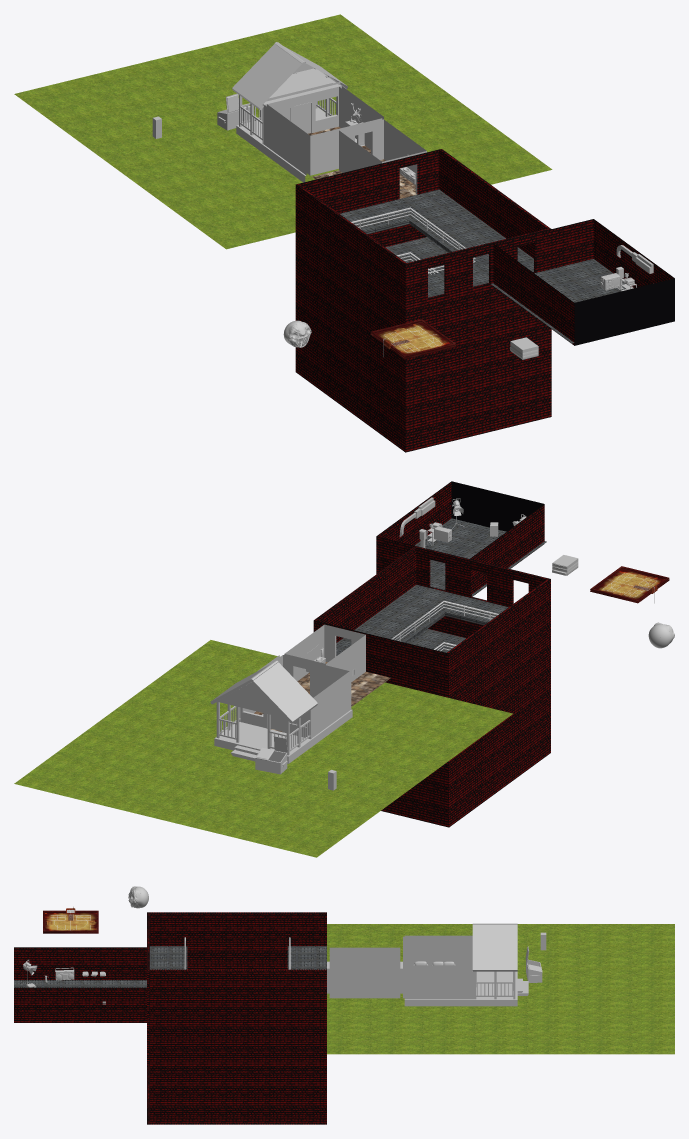
Rendered from Env.fbx.
3 views of the same model, one above another, from view 1: azimuth 30°, elevation 25°; view 2: azimuth 150°, elevation 25°; view 3: azimuth 270°, elevation 25° (orthographic). The views are drawn at different scales.
Visible parts, largest first — view 1: Rectangle023, Plane002, Rectangle024, House_D_006, Object004, Object003, Rectangle022, Object068, Plane001, Box002, Rectangle012, Object005 (+3 smaller); view 2: Plane002, Rectangle023, House_D_006, Rectangle024, Object003, Object004, Rectangle022, Plane001, Object068, Rectangle012, Line005, Box01 (+4 smaller); view 3: Rectangle023, Plane002, Rectangle024, House_D_006, Rectangle022, Object068, Object004, Plane001, Rectangle012, Rectangle002, Box01, Object_36.
Boxes of the visible parts, left/top/right/bottom form: Rectangle023: left=295, top=149, right=551, bottom=452; Plane002: left=14, top=14, right=552, bottom=249; Rectangle024: left=493, top=219, right=674, bottom=345; House_D_006: left=232, top=42, right=383, bottom=182; Object004: left=340, top=189, right=533, bottom=297; Object003: left=299, top=149, right=438, bottom=246; Rectangle022: left=339, top=119, right=426, bottom=194; Object068: left=267, top=87, right=382, bottom=175; Plane001: left=491, top=259, right=625, bottom=343; Box002: left=263, top=85, right=341, bottom=144; Rectangle012: left=376, top=322, right=450, bottom=354; Object005: left=385, top=237, right=448, bottom=275; Plane002: left=14, top=640, right=512, bottom=857; Rectangle023: left=313, top=546, right=550, bottom=827; House_D_006: left=210, top=655, right=352, bottom=763; Rectangle024: left=376, top=481, right=544, bottom=596; Object003: left=316, top=621, right=446, bottom=826; Object004: left=336, top=584, right=508, bottom=655; Rectangle022: left=284, top=624, right=365, bottom=681; Plane001: left=415, top=518, right=546, bottom=596; Object068: left=244, top=655, right=349, bottom=713; Rectangle012: left=595, top=569, right=664, bottom=599; Line005: left=254, top=662, right=390, bottom=731; Box01: left=255, top=736, right=287, bottom=774; Rectangle023: left=147, top=912, right=326, bottom=1124; Plane002: left=327, top=924, right=674, bottom=1054; Rectangle024: left=14, top=947, right=146, bottom=1022; House_D_006: left=404, top=923, right=528, bottom=1006; Rectangle022: left=327, top=947, right=400, bottom=998; Object068: left=400, top=936, right=472, bottom=998; Object004: left=149, top=946, right=326, bottom=969; Plane001: left=14, top=980, right=146, bottom=987; Rectangle012: left=45, top=913, right=96, bottom=930; Rectangle002: left=43, top=910, right=98, bottom=933; Box01: left=525, top=946, right=542, bottom=982; Object_36: left=128, top=886, right=148, bottom=908.
Size of the model in its own units: 1265 by 2310 by 700.
